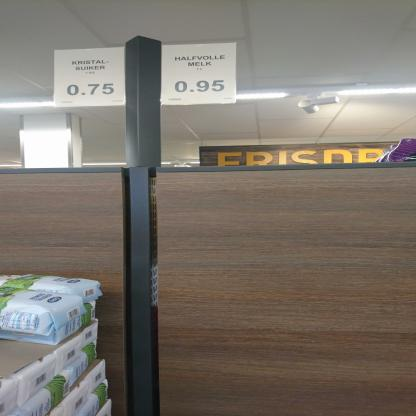prtg: (162, 43, 237, 106), (55, 47, 126, 109)
